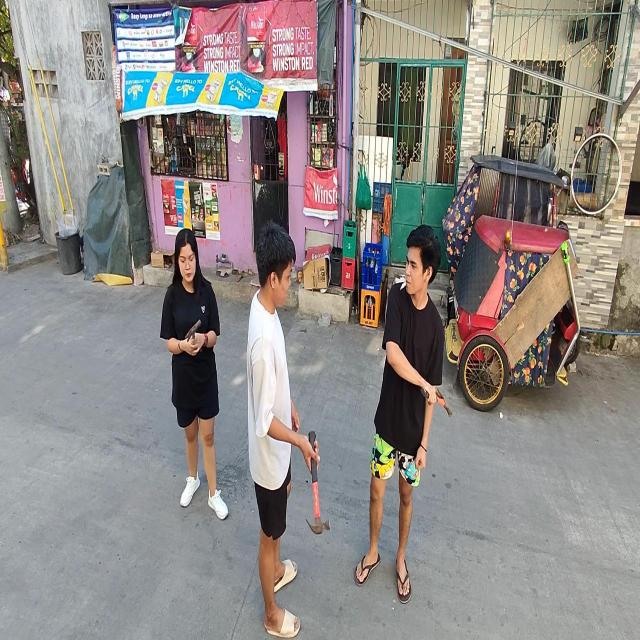hammer: (306, 430, 330, 534), (420, 387, 452, 417), (185, 320, 201, 344)
